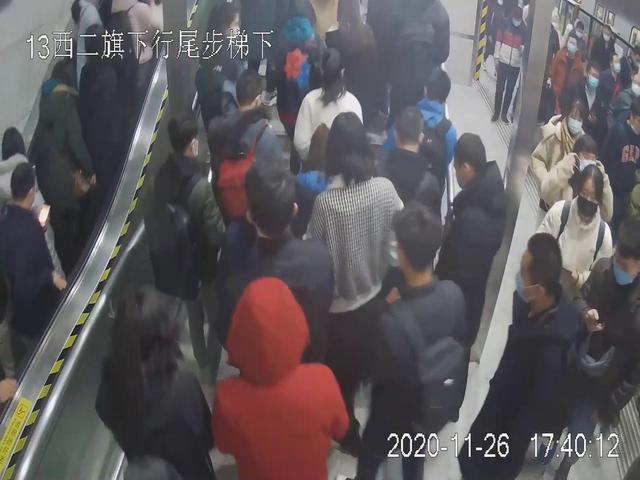person: (306, 112, 400, 450), (201, 274, 358, 471), (362, 195, 466, 475), (471, 223, 568, 478), (219, 162, 330, 383), (149, 112, 228, 383), (26, 64, 96, 250), (209, 73, 288, 233), (544, 161, 608, 325), (2, 161, 58, 342)
